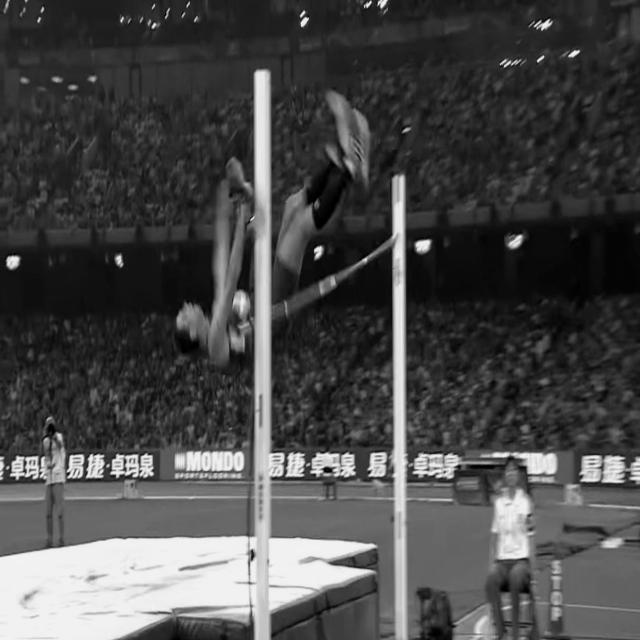land: (176, 90, 369, 362)
